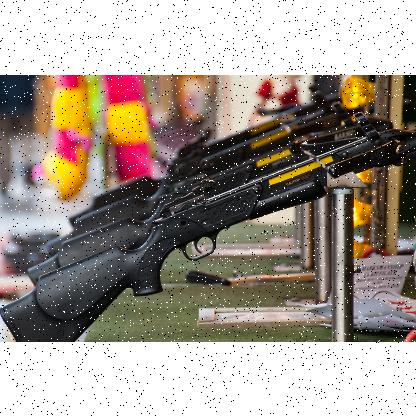gun: (0, 121, 415, 341)
